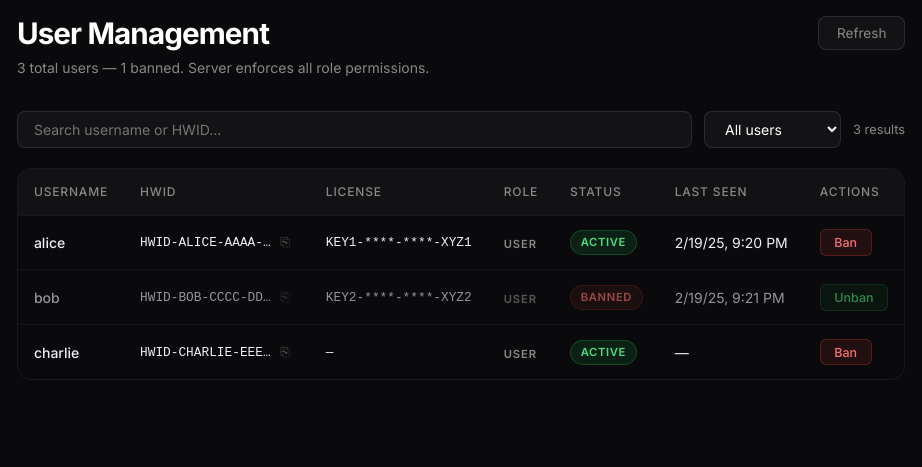
Test: AdminUsers — ban/unban › shows action error when ban fails
Check: the text "alice" is shown, box [18, 215, 124, 270]
Click the button "Ban" in the row of "HWID-ALICE-AAAA-" at x=846, y=243, box [820, 229, 872, 256]
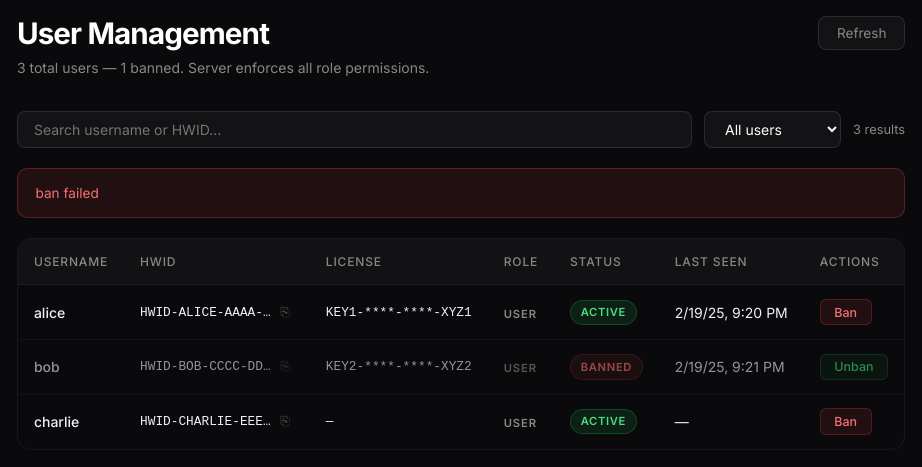
Check: the text "ban failed" is shown, box [17, 168, 905, 218]
